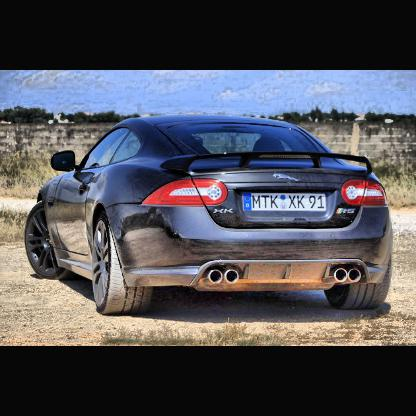Jaguar XK XKR 2012: (27, 114, 396, 316)
